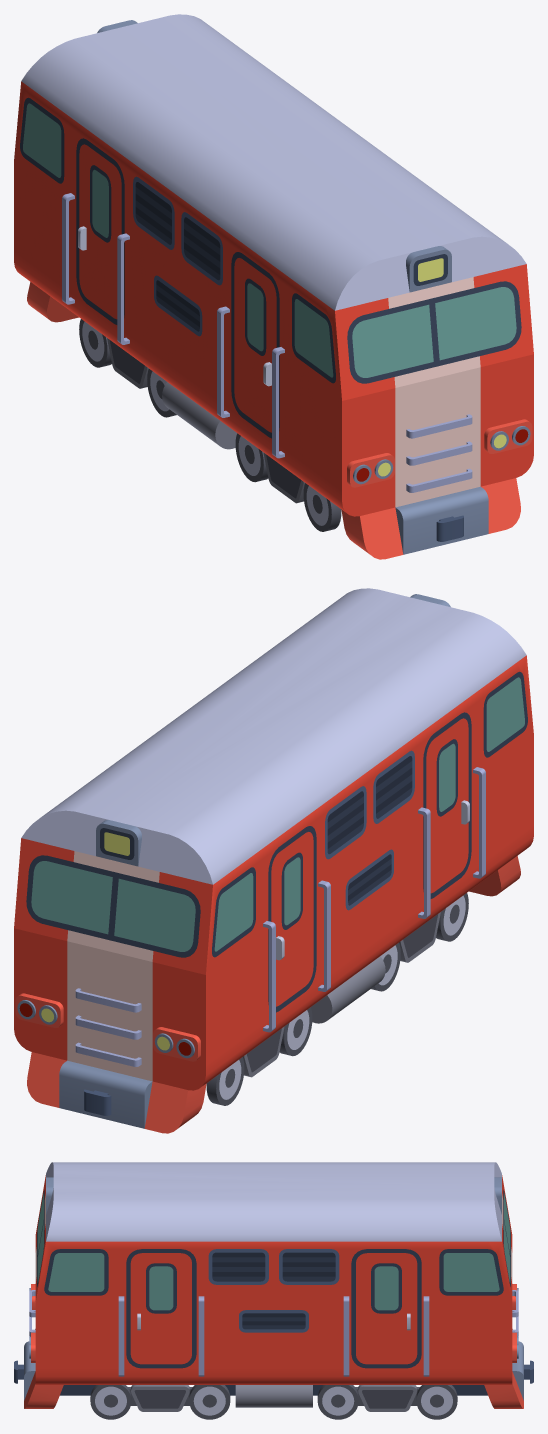
File: Lokomotive B.fbx
The picture shows the model from 3 angles, top to bottom: view 1: azimuth 30°, elevation 25°; view 2: azimuth 150°, elevation 25°; view 3: azimuth 270°, elevation 25°; orthographic projection. The views are drawn at different scales.
Parts seen in each view (by area): view 1: Lokomotive B, Lokomotive B Door.002, Lokomotive B Door.001, Lokomotive B Wheel.002, Lokomotive B Wheel, Lokomotive B Wheel.003, Lokomotive B Wheel.005, Lokomotive B Wheel.001, Lokomotive B Wheel.004; view 2: Lokomotive B, Lokomotive B Door.001, Lokomotive B Door.002, Lokomotive B Wheel.005, Lokomotive B Wheel.001, Lokomotive B Wheel.004, Lokomotive B Wheel, Lokomotive B Wheel.002, Lokomotive B Wheel.003; view 3: Lokomotive B, Lokomotive B Door, Lokomotive B Door.003, Lokomotive B Wheel, Lokomotive B Wheel.001, Lokomotive B Wheel.005, Lokomotive B Wheel.002, Lokomotive B Wheel.004, Lokomotive B Wheel.003.
Part boxes in pixels (<box>): Lokomotive B: <box>14,14,533,559</box>; Lokomotive B Door.002: <box>76,138,124,324</box>; Lokomotive B Door.001: <box>231,252,279,438</box>; Lokomotive B Wheel.002: <box>303,483,341,531</box>; Lokomotive B Wheel: <box>107,338,148,388</box>; Lokomotive B Wheel.003: <box>235,433,268,482</box>; Lokomotive B Wheel.005: <box>79,319,111,367</box>; Lokomotive B Wheel.001: <box>263,453,304,503</box>; Lokomotive B Wheel.004: <box>147,369,176,417</box>; Lokomotive B: <box>14,588,533,1133</box>; Lokomotive B Door.001: <box>423,712,471,898</box>; Lokomotive B Door.002: <box>268,826,316,1012</box>; Lokomotive B Wheel.005: <box>206,1057,244,1105</box>; Lokomotive B Wheel.001: <box>399,912,440,962</box>; Lokomotive B Wheel.004: <box>279,1007,312,1056</box>; Lokomotive B Wheel: <box>243,1027,284,1077</box>; Lokomotive B Wheel.002: <box>436,893,468,941</box>; Lokomotive B Wheel.003: <box>371,943,400,991</box>; Lokomotive B: <box>14,1162,533,1408</box>; Lokomotive B Door: <box>126,1249,196,1368</box>; Lokomotive B Door.003: <box>351,1249,421,1368</box>; Lokomotive B Wheel: <box>355,1385,419,1411</box>; Lokomotive B Wheel.001: <box>128,1385,192,1411</box>; Lokomotive B Wheel.005: <box>416,1385,457,1419</box>; Lokomotive B Wheel.002: <box>90,1385,131,1419</box>; Lokomotive B Wheel.004: <box>317,1385,358,1419</box>; Lokomotive B Wheel.003: <box>189,1385,230,1419</box>.
Bounding box in the file's own units: 3.63 × 4.84 × 10.71.
